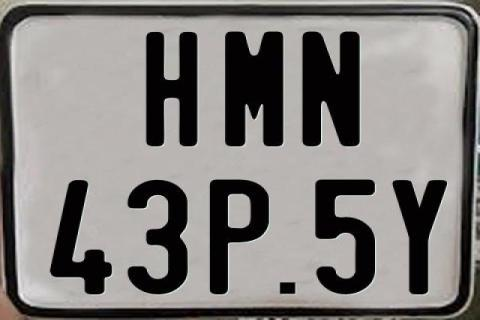0: (124, 179, 191, 299), (50, 178, 116, 296), (315, 178, 376, 296)
H: (143, 29, 196, 149)
M: (224, 31, 286, 148)
N: (300, 31, 362, 147)
P: (210, 177, 274, 296)
Y: (389, 177, 445, 293)
